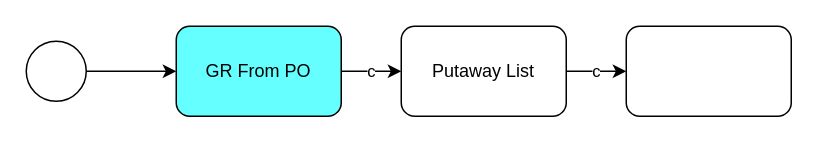
Image size: 818x143. Some labels were removed from this diagram. The box of each missing label's shape, as (x1, y1, x2, y2) in pixels:
Palleting & Putaway: (625, 25, 791, 116)
Start: (25, 40, 86, 101)
